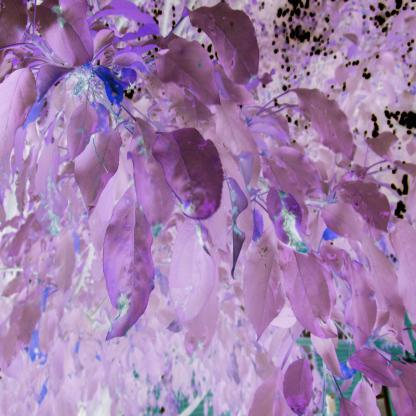apple scab leaf: (99, 184, 157, 345)
